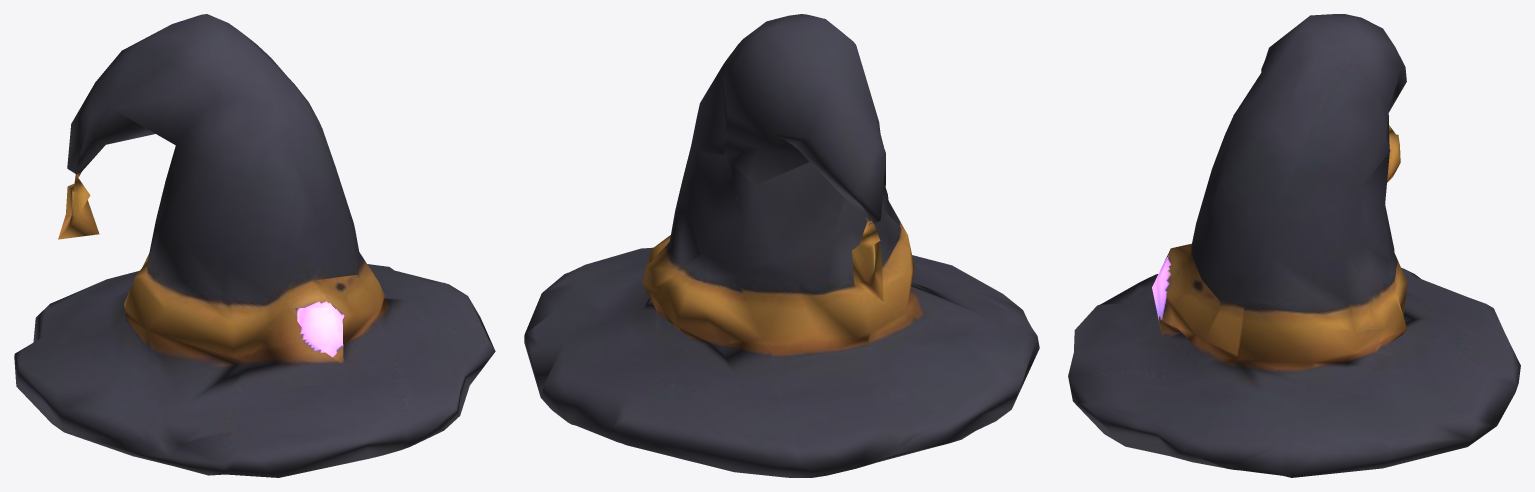
File: hat_seerHat-EV4Vleh-.glb
3 views of the same model, side by side, from view 1: azimuth 30°, elevation 25°; view 2: azimuth 150°, elevation 25°; view 3: azimuth 270°, elevation 25° (orthographic). The views are drawn at different scales.
Parts seen in each view (by area): view 1: tripo_node_62ca2ceb-8766-40c1-88c5-105c083db4be; view 2: tripo_node_62ca2ceb-8766-40c1-88c5-105c083db4be; view 3: tripo_node_62ca2ceb-8766-40c1-88c5-105c083db4be.
Part boxes in pixels (x1,y1,x2,y2): tripo_node_62ca2ceb-8766-40c1-88c5-105c083db4be: [14, 14, 495, 477]; tripo_node_62ca2ceb-8766-40c1-88c5-105c083db4be: [524, 14, 1039, 477]; tripo_node_62ca2ceb-8766-40c1-88c5-105c083db4be: [1068, 14, 1520, 477].
Size of the model in its own units: 1 by 0.7969 by 0.9327.
Materials: 1 (1 with a texture image).
